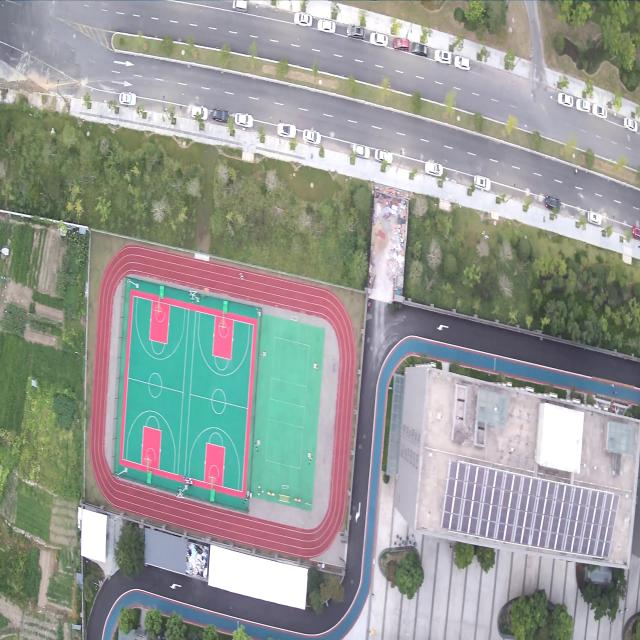UAV: (274, 205, 284, 212)
